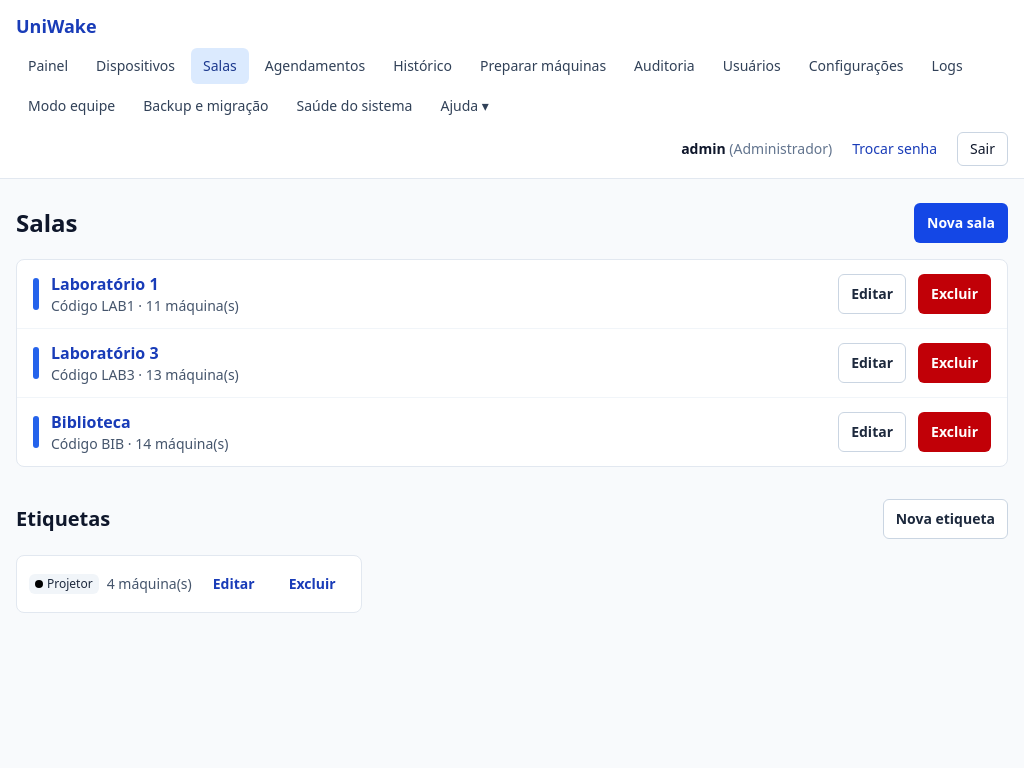
Test case: Ctrl+K quick wake (FR-004.7) › AC-004-17: Ctrl+K, "lab 3", Enter opens the preview for that room
Expected: the heading "Salas" is shown, top-left (16, 207), bottom-right (78, 239)
Type keys "{Control>}k{/Control}"
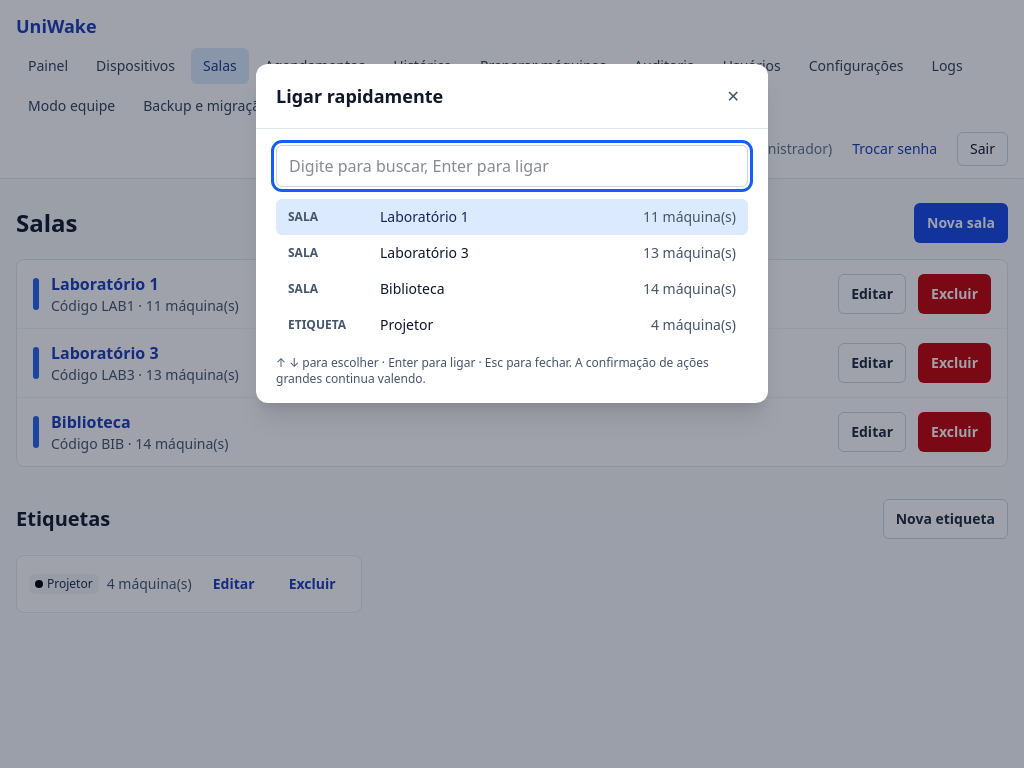
Type "lab 3" into the dropdown named "Sala, etiqueta ou máquina".
click(512, 166); type("lab 3")  # box top-left (276, 145), bottom-right (748, 187)
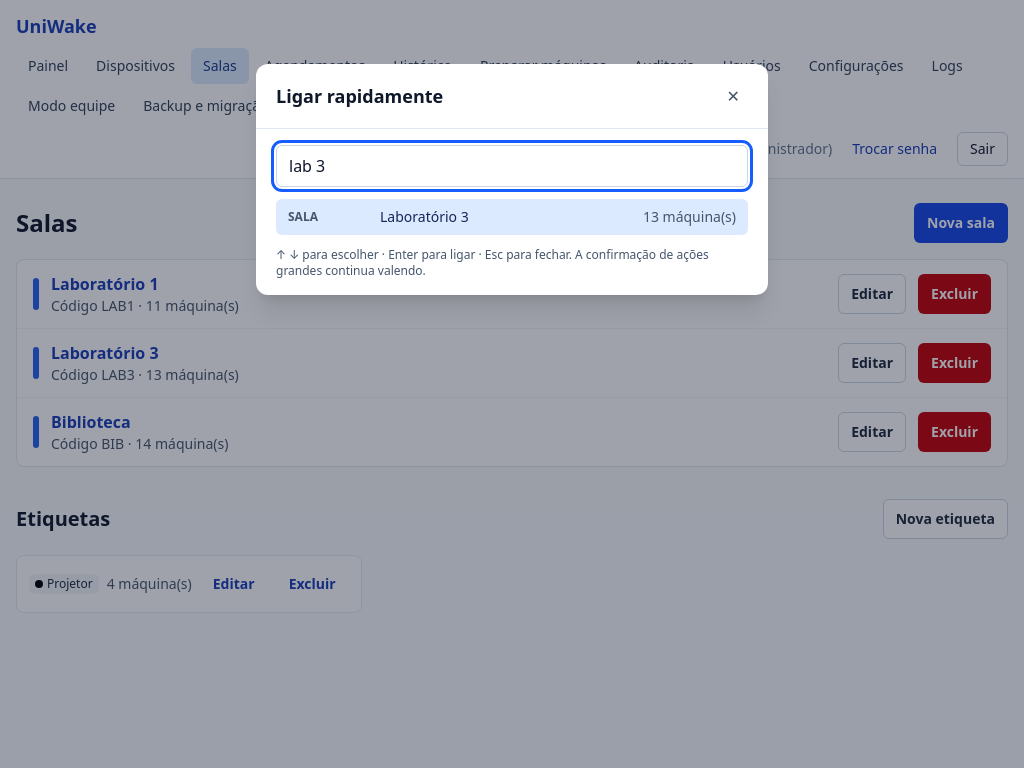
Result: the options read "SalaLaboratório 313 máquina(s)", in this order at top-left (276, 199), bottom-right (748, 235)
Press Enter
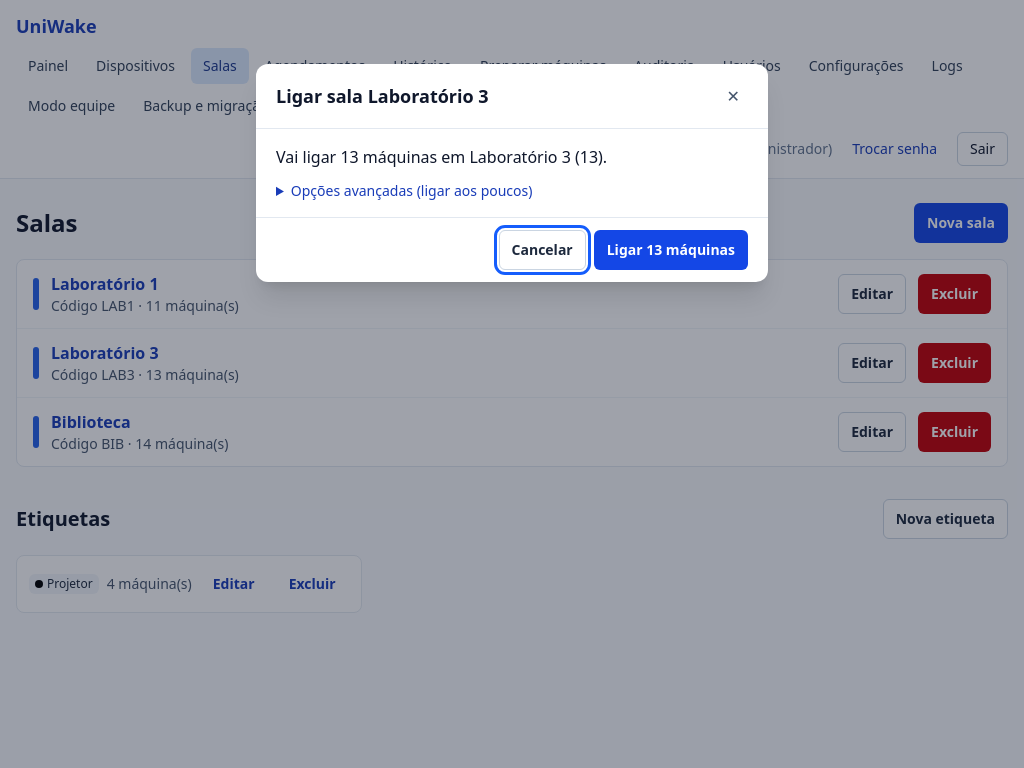
Result: the dialog "Ligar sala Laboratório 3" is shown at top-left (256, 64), bottom-right (768, 282)
Result: the heading "Ligar rapidamente" is gone
